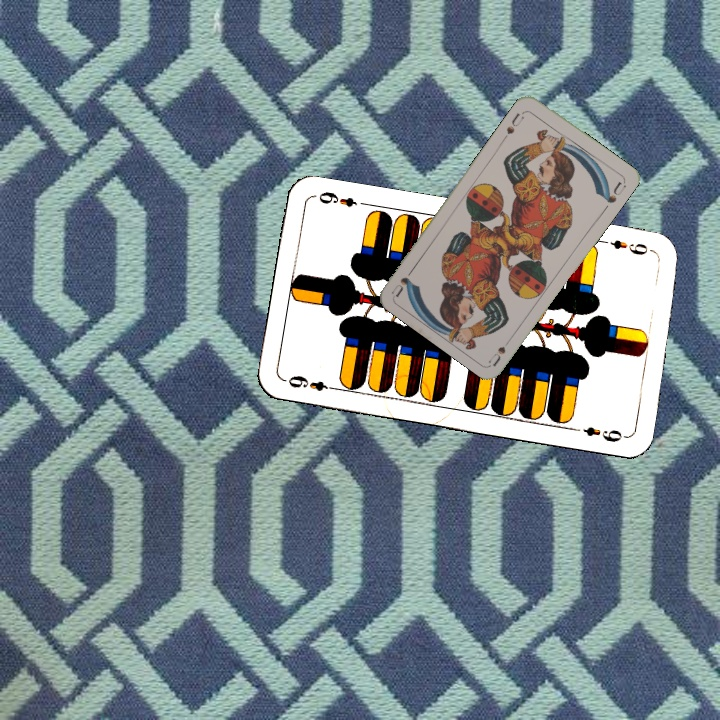E9: (282, 371, 341, 394), (598, 236, 657, 258)
SU: (485, 331, 516, 368), (499, 107, 528, 142)
